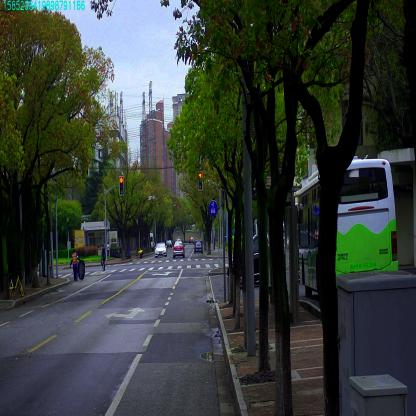traffic-light: (120, 177, 124, 194), (198, 172, 202, 189)
